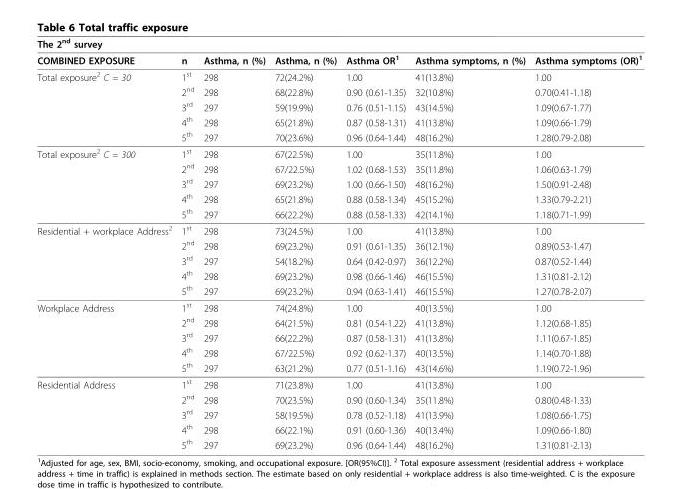table: (36, 36, 641, 450)
table column: (36, 36, 175, 450), (409, 36, 529, 450), (529, 36, 641, 450), (198, 36, 269, 450), (269, 36, 340, 450), (340, 36, 409, 450), (175, 36, 198, 450)
table column header: (36, 36, 641, 67)
table row: (36, 51, 641, 67), (36, 67, 641, 83), (36, 128, 641, 144), (36, 144, 641, 160), (36, 205, 641, 221), (36, 221, 641, 237), (36, 282, 641, 298), (36, 298, 641, 314), (36, 359, 641, 375), (36, 375, 641, 391), (36, 36, 641, 51), (36, 83, 641, 98), (36, 98, 641, 113), (36, 113, 641, 128), (36, 160, 641, 175), (36, 175, 641, 190), (36, 190, 641, 205), (36, 237, 641, 252), (36, 252, 641, 267), (36, 267, 641, 282), (36, 314, 641, 329), (36, 329, 641, 344), (36, 344, 641, 359), (36, 391, 641, 406), (36, 406, 641, 421), (36, 421, 641, 436), (36, 436, 641, 450)
table spanning cell: (36, 67, 175, 144), (36, 144, 175, 221), (36, 221, 175, 298), (36, 298, 175, 375), (36, 375, 175, 450), (36, 36, 641, 51)
